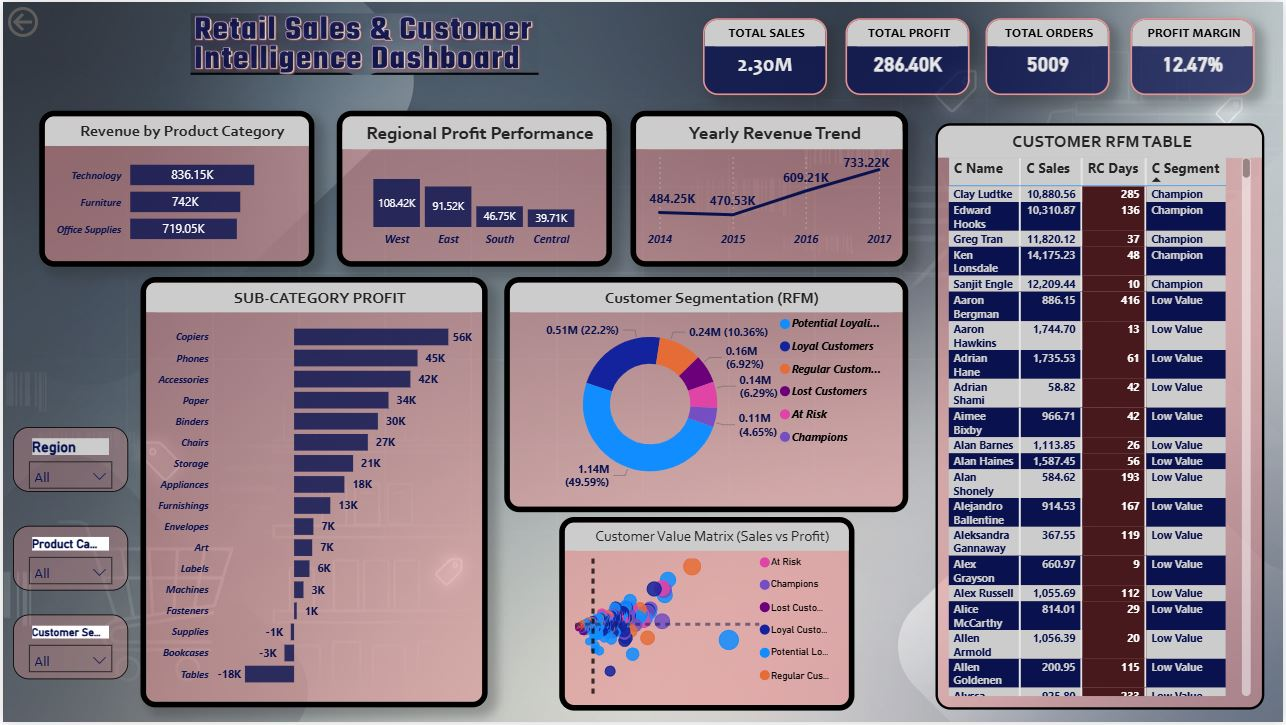

Layout of this report page (visuals, bound fields, positions):
{"tool":"powerbi","page":{"name":"Page 1","canvas":[1280,720],"ordinal":0},"visuals":[{"type":"card","title":"TOTAL SALES","fields":{"Values":["retail_bi customers.Total Sales"]},"box":[700,16.5,124.3,77.1],"z":0},{"type":"card","title":"TOTAL PROFIT","fields":{"Values":["retail_bi customers.Total Profit"]},"box":[842.9,16.5,124.3,77.1],"z":1000},{"type":"card","title":"TOTAL ORDERS","fields":{"Values":["retail_bi customers.Total Orders"]},"box":[982.9,16.5,124.3,77.1],"z":2000},{"type":"card","title":"PROFIT MARGIN","fields":{"Values":["retail_bi customers.Profit Margin"]},"box":[1127.1,16.5,124.3,77.1],"z":3000},{"type":"barChart","title":"Revenue by Product Category","fields":{"Category":["retail_bi products.category"],"Y":["Sum(retail_bi order_details.sales)"]},"box":[36.2,108.8,275,156.2],"z":4000},{"type":"actionButton","box":[0,0,100,40],"z":5000},{"type":"clusteredColumnChart","title":"Regional Profit Performance","fields":{"Category":["retail_bi geography.region"],"Y":["Sum(retail_bi order_details.profit)"]},"box":[333.8,108.8,275,156.2],"z":6000},{"type":"lineChart","title":"Yearly Revenue Trend","fields":{"Category":["retail_bi orders.order_date.Variation.Date Hierarchy.Year","retail_bi orders.order_date.Variation.Date Hierarchy.Quarter","retail_bi orders.order_date.Variation.Date Hierarchy.Month","retail_bi orders.order_date.Variation.Date Hierarchy.Day"],"Y":["Sum(retail_bi order_details.sales)"]},"box":[627.5,108.8,277.5,156.2],"z":7000},{"type":"barChart","title":"SUB-CATEGORY PROFIT","fields":{"Category":["retail_bi products.sub_category"],"Y":["Sum(retail_bi order_details.profit)"]},"box":[137.5,275,347.5,430],"z":8000},{"type":"slicer","fields":{"Values":["retail_bi geography.region"]},"box":[10,425,115,65],"z":9000},{"type":"slicer","fields":{"Values":["retail_bi products.category"]},"box":[10,523.8,115,65],"z":10000},{"type":"slicer","fields":{"Values":["retail_bi customers.segment"]},"box":[10,612.5,115,65],"z":11000},{"type":"tableEx","title":"CUSTOMER RFM TABLE","fields":{"Values":["retail_bi customers.customer_name","retail_bi customers.Customer Sales","retail_bi customers.Recency Days","retail_bi customers.Customer Segment"]},"box":[932.5,121.8,328.8,586.2],"z":12000},{"type":"donutChart","title":"Customer Segmentation (RFM)","fields":{"Category":["retail_bi customers.RFM Segment"],"Y":["retail_bi customers.Customer Sales"]},"box":[501.2,275,403.8,235],"z":13000},{"type":"scatterChart","title":"Customer Value Matrix (Sales vs Profit)","fields":{"X":["retail_bi customers.Customer Sales"],"Y":["retail_bi customers.Customer Profit"],"Series":["retail_bi customers.RFM Segment"],"Size":["retail_bi customers.Customer Sales"],"Category":["retail_bi customers.customer_name"]},"box":[556.2,515,295,193.8],"z":14000},{"type":"image","box":[50,11.9,622.5,61.2],"z":15000}]}

Visuals, with their boxes in screenshot pixels (x1, y1, x2, y2), scaled from the page's 1280x720 canvas onto the 1286x725 screenshot:
"TOTAL SALES" card: (703, 17, 828, 94)
"TOTAL PROFIT" card: (847, 17, 972, 94)
"TOTAL ORDERS" card: (988, 17, 1112, 94)
"PROFIT MARGIN" card: (1132, 17, 1257, 94)
"Revenue by Product Category" barChart: (36, 110, 313, 267)
actionButton: (0, 0, 100, 40)
"Regional Profit Performance" clusteredColumnChart: (335, 110, 612, 267)
"Yearly Revenue Trend" lineChart: (630, 110, 909, 267)
"SUB-CATEGORY PROFIT" barChart: (138, 277, 487, 710)
slicer - retail_bi geography.region: (10, 428, 126, 493)
slicer - retail_bi products.category: (10, 527, 126, 593)
slicer - retail_bi customers.segment: (10, 617, 126, 682)
"CUSTOMER RFM TABLE" tableEx: (937, 123, 1267, 713)
"Customer Segmentation (RFM)" donutChart: (504, 277, 909, 514)
"Customer Value Matrix (Sales vs Profit)" scatterChart: (559, 519, 855, 714)
image: (50, 12, 676, 74)
